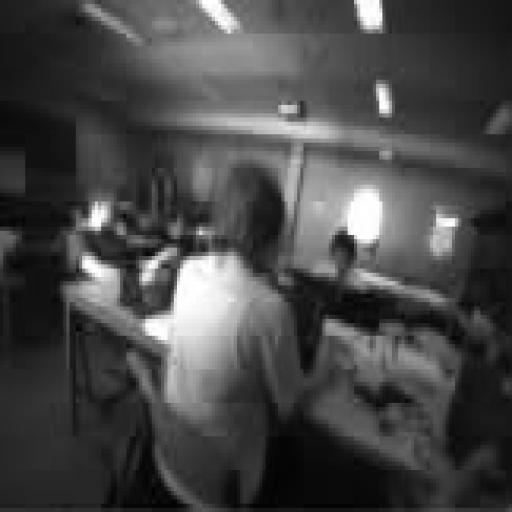human: (165, 164, 306, 503), (72, 180, 171, 402), (329, 231, 357, 289)
